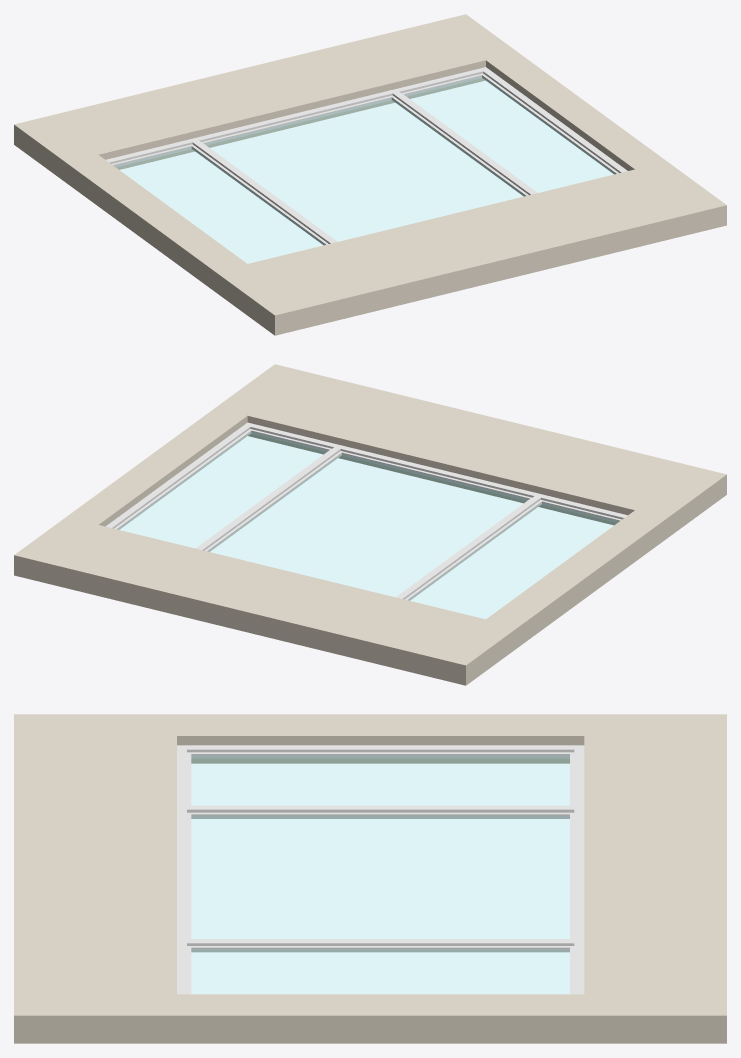
Rendered from Window01.gltf.
The picture shows the model from 3 angles, top to bottom: view 1: azimuth 30°, elevation 25°; view 2: azimuth 150°, elevation 25°; view 3: azimuth 270°, elevation 25°; orthographic projection. The views are drawn at different scales.
Parts seen in each view (by area): view 1: SIP, WindowFrame, WindowSeal; view 2: SIP, WindowFrame, WindowSeal; view 3: SIP, WindowFrame, WindowSeal.
Part boxes in pixels (bbox=[...]): SIP: bbox=[14, 14, 726, 335]; WindowFrame: bbox=[106, 67, 627, 243]; WindowSeal: bbox=[111, 73, 619, 245]; SIP: bbox=[14, 364, 726, 685]; WindowFrame: bbox=[106, 422, 627, 599]; WindowSeal: bbox=[114, 429, 621, 600]; SIP: bbox=[14, 714, 726, 1043]; WindowFrame: bbox=[177, 745, 584, 994]; WindowSeal: bbox=[187, 752, 574, 994].
Size of the model in its own units: 3.5 by 0.15 by 3.5.
